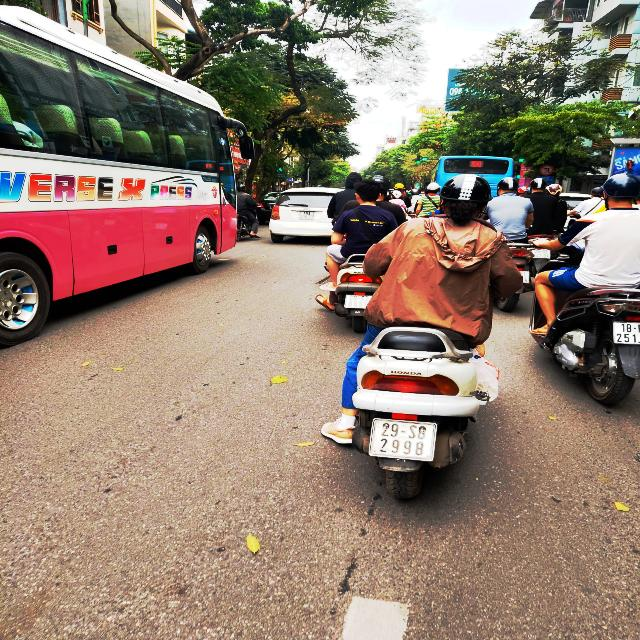license_plate: (371, 420, 436, 460), (346, 296, 375, 309), (299, 212, 315, 221)
